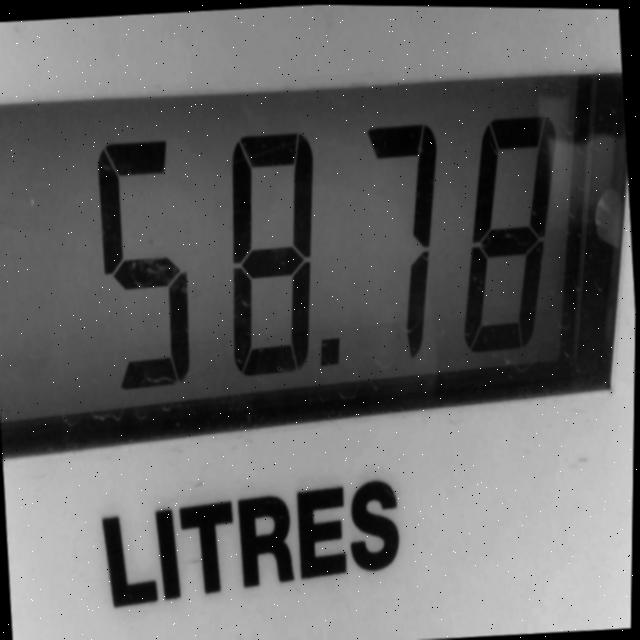.: (313, 319, 357, 391)
5: (72, 118, 216, 407)
7: (350, 78, 459, 359)
8: (203, 130, 344, 412), (440, 88, 580, 358)
